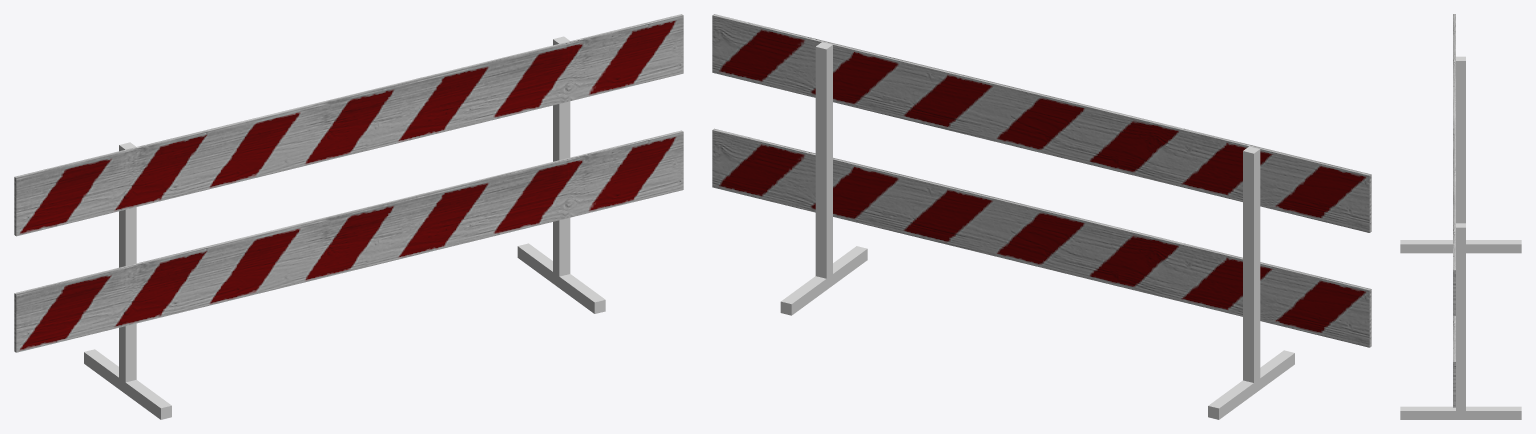
File: road_bar3_LOD0.fbx
3 views of the same model, side by side, from view 1: azimuth 30°, elevation 25°; view 2: azimuth 150°, elevation 25°; view 3: azimuth 270°, elevation 25° (orthographic). The views are drawn at different scales.
Parts seen in each view (by area): view 1: polySurface1; view 2: polySurface1; view 3: polySurface1.
Part boxes in pixels (x1,y1,x2,y2): polySurface1: (14, 14, 683, 419); polySurface1: (712, 14, 1371, 419); polySurface1: (1400, 14, 1521, 419).
Bounding box in the file's own units: 3.25 × 1.14 × 0.6495.
